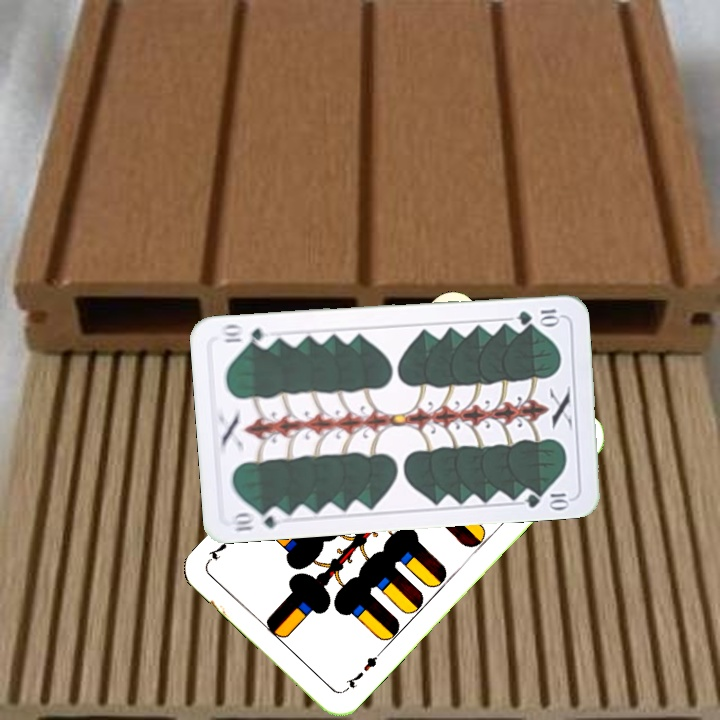E7: (339, 647, 384, 695)
G10: (227, 504, 287, 534), (513, 305, 563, 327)
